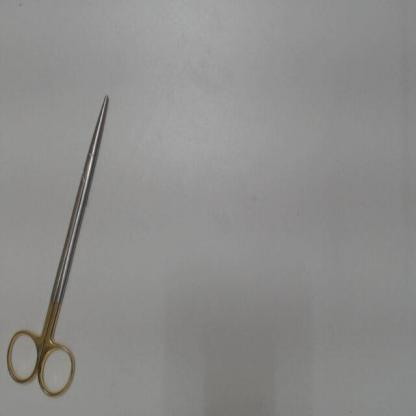7 Metzenbaum Scissors: (3, 89, 112, 404)
